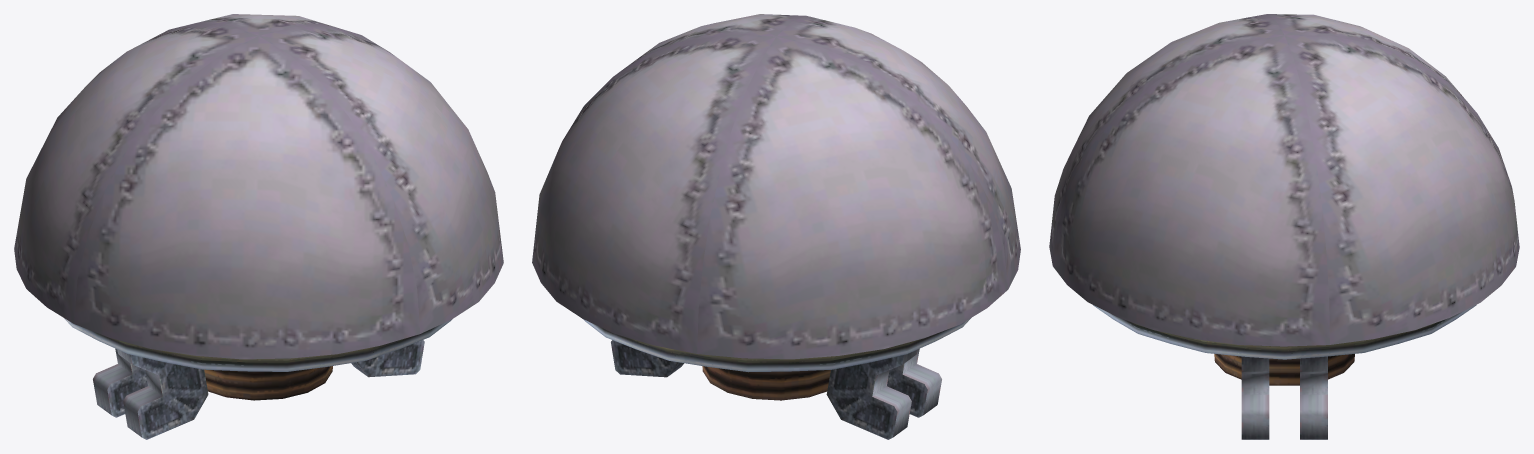
Rendered from ship_component_weapon_s02_l0.fbx.
The picture shows the model from 3 angles, left to right: view 1: azimuth 30°, elevation 25°; view 2: azimuth 150°, elevation 25°; view 3: azimuth 270°, elevation 25°; orthographic projection. The views are drawn at different scales.
Visible parts, largest first — view 1: mesh_node; view 2: mesh_node; view 3: mesh_node.
Boxes of the visible parts, box(x1,y1,x2,y2) form: mesh_node: box(14, 14, 503, 439); mesh_node: box(532, 14, 1020, 439); mesh_node: box(1049, 14, 1519, 439).
Size of the model in its own units: 2.09 by 1.67 by 2.09.
